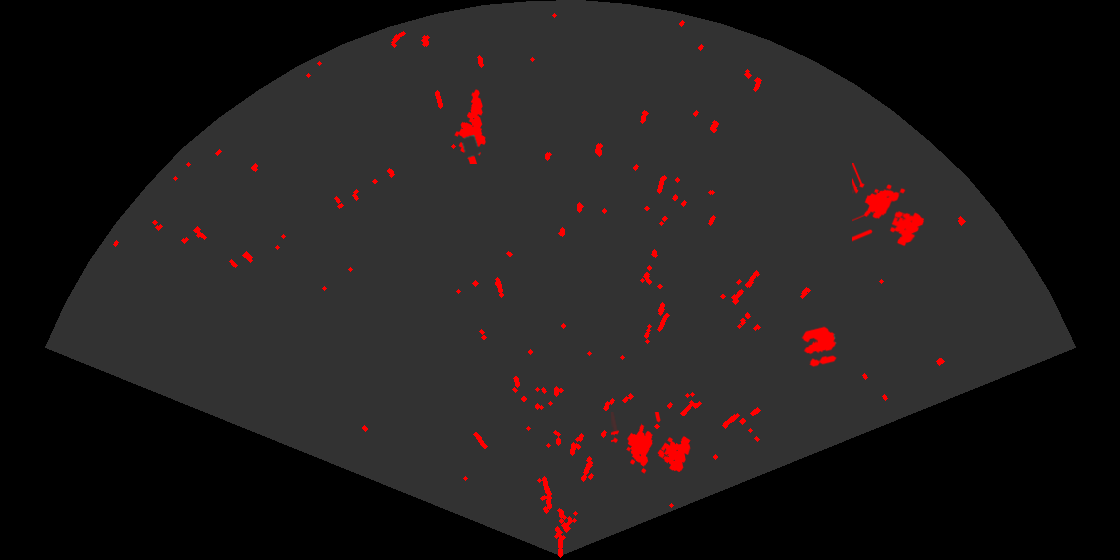ball: (800, 325, 838, 369)
cage: (852, 163, 926, 248), (611, 412, 692, 475)
frogman: (453, 88, 487, 164)
